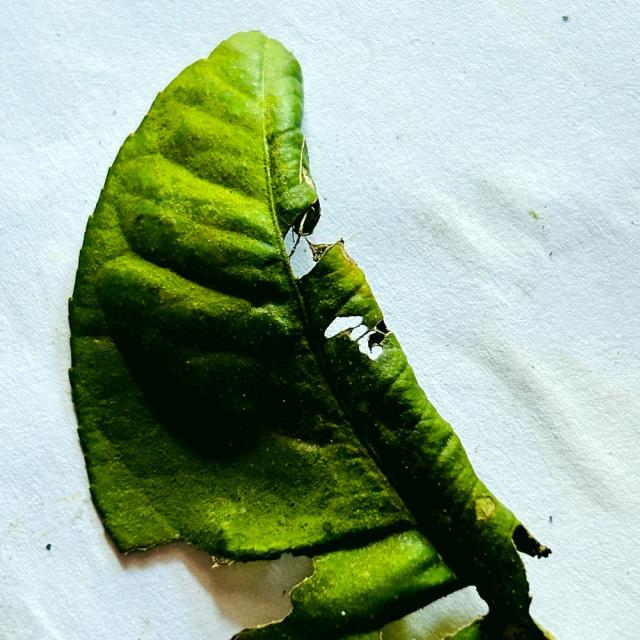Deficiency Leaf: (115, 541, 315, 637), (392, 587, 488, 639), (289, 200, 351, 276), (321, 306, 393, 360), (511, 524, 553, 609)
Lemon: (69, 31, 550, 639)
